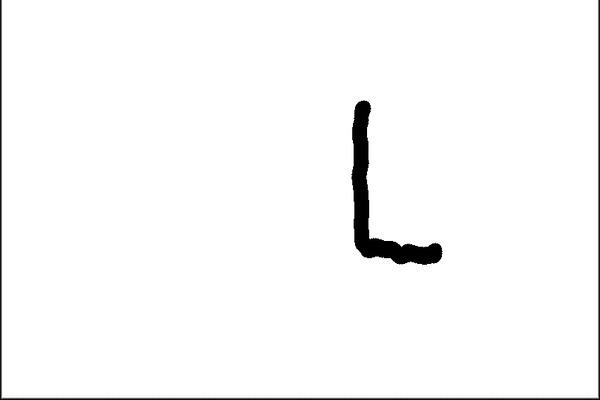L: (344, 93, 448, 272)
